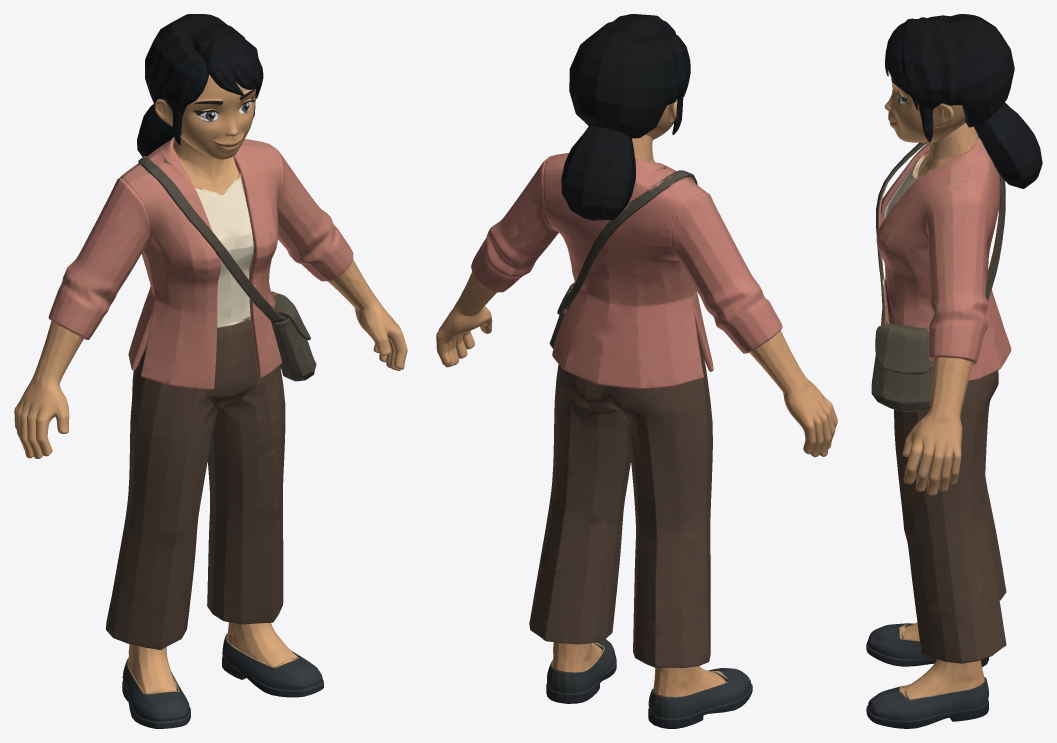
The model's file is Warga_Perempuan_Original.glb.
The picture shows the model from 3 angles, left to right: view 1: azimuth 30°, elevation 25°; view 2: azimuth 150°, elevation 25°; view 3: azimuth 270°, elevation 25°; orthographic projection. The views are drawn at different scales.
Parts seen in each view (by area): view 1: Warga_Perempuan_Meshy; view 2: Warga_Perempuan_Meshy; view 3: Warga_Perempuan_Meshy.
Part boxes in pixels (x1=…): Warga_Perempuan_Meshy: x1=14, y1=14, x2=407, y2=728; Warga_Perempuan_Meshy: x1=436, y1=14, x2=837, y2=728; Warga_Perempuan_Meshy: x1=866, y1=14, x2=1042, y2=728.
Size of the model in its own units: 0.9914 by 1.65 by 0.3951.
Materials: 1 (1 with a texture image).
